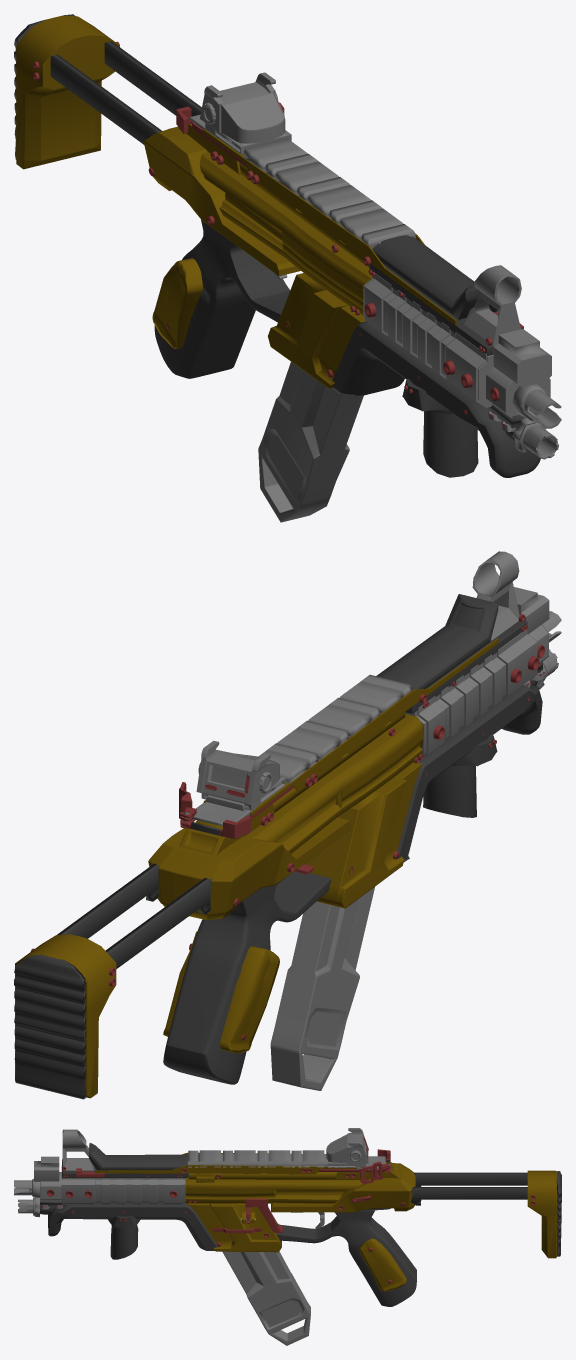
Rendered from corpsarme5.fbx.
The picture shows the model from 3 angles, top to bottom: view 1: azimuth 30°, elevation 25°; view 2: azimuth 150°, elevation 25°; view 3: azimuth 270°, elevation 25°; orthographic projection. The views are drawn at different scales.
Parts seen in each view (by area): view 1: polySurface1941; view 2: polySurface1941; view 3: polySurface1941.
Boxes of the visible parts, x1,y1,x2,y2 form: polySurface1941: (14,14,561,522); polySurface1941: (14,551,561,1099); polySurface1941: (14,1128,561,1345).
Bounding box in the file's own units: 0.1266 × 0.4886 × 1.14.
